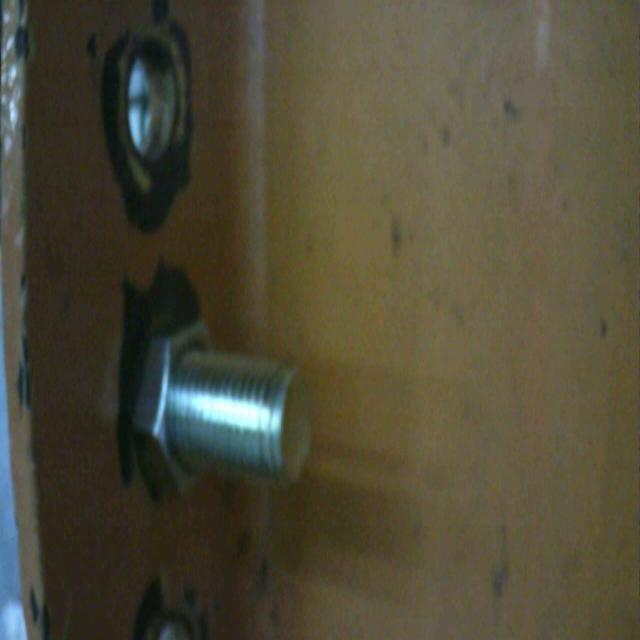Missing bolt: (120, 32, 187, 168)
Regular bolt: (129, 311, 315, 497)
